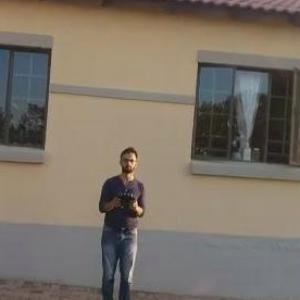follow: (93, 141, 150, 299)
